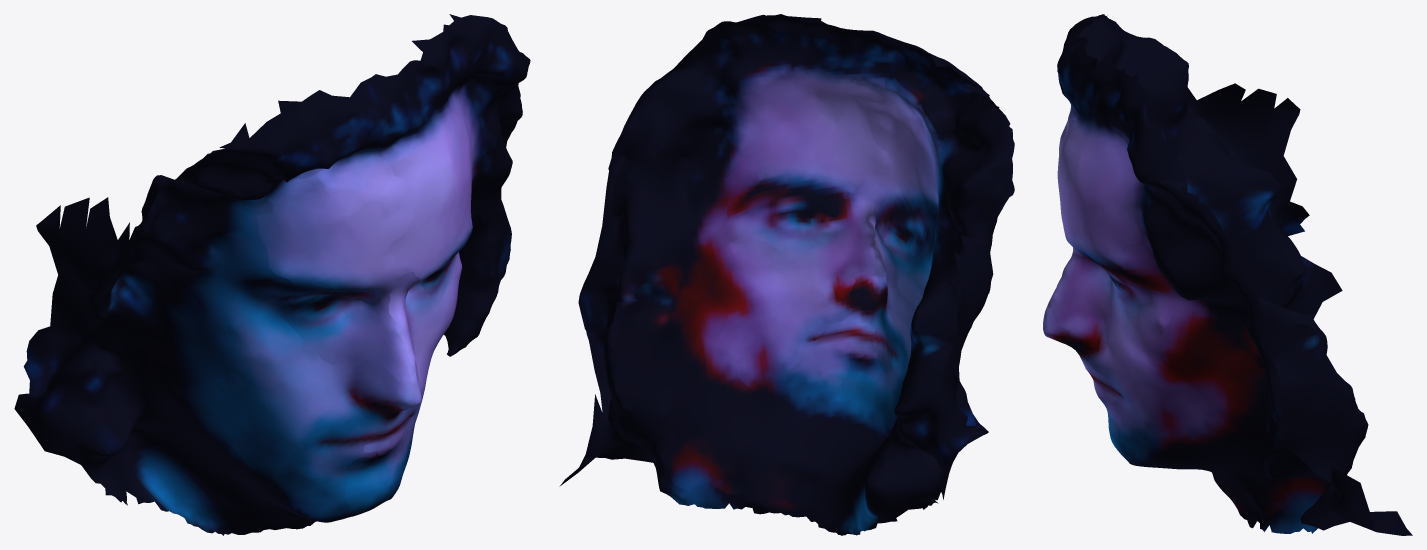
Rendered from bust.gltf.
3 renders of one model, left to right at view 1: azimuth 30°, elevation 25°; view 2: azimuth 150°, elevation 25°; view 3: azimuth 270°, elevation 25°, orthographic. The views are drawn at different scales.
Visible parts, largest first — view 1: mesh; view 2: mesh; view 3: mesh.
Part boxes in pixels (x1,y1,x2,y2): mesh: (14,14,530,535); mesh: (559,14,1014,535); mesh: (1043,14,1412,535).
Bounding box in the file's own units: 0.2548 × 0.2692 × 0.1882.
1 material, 1 textured.
